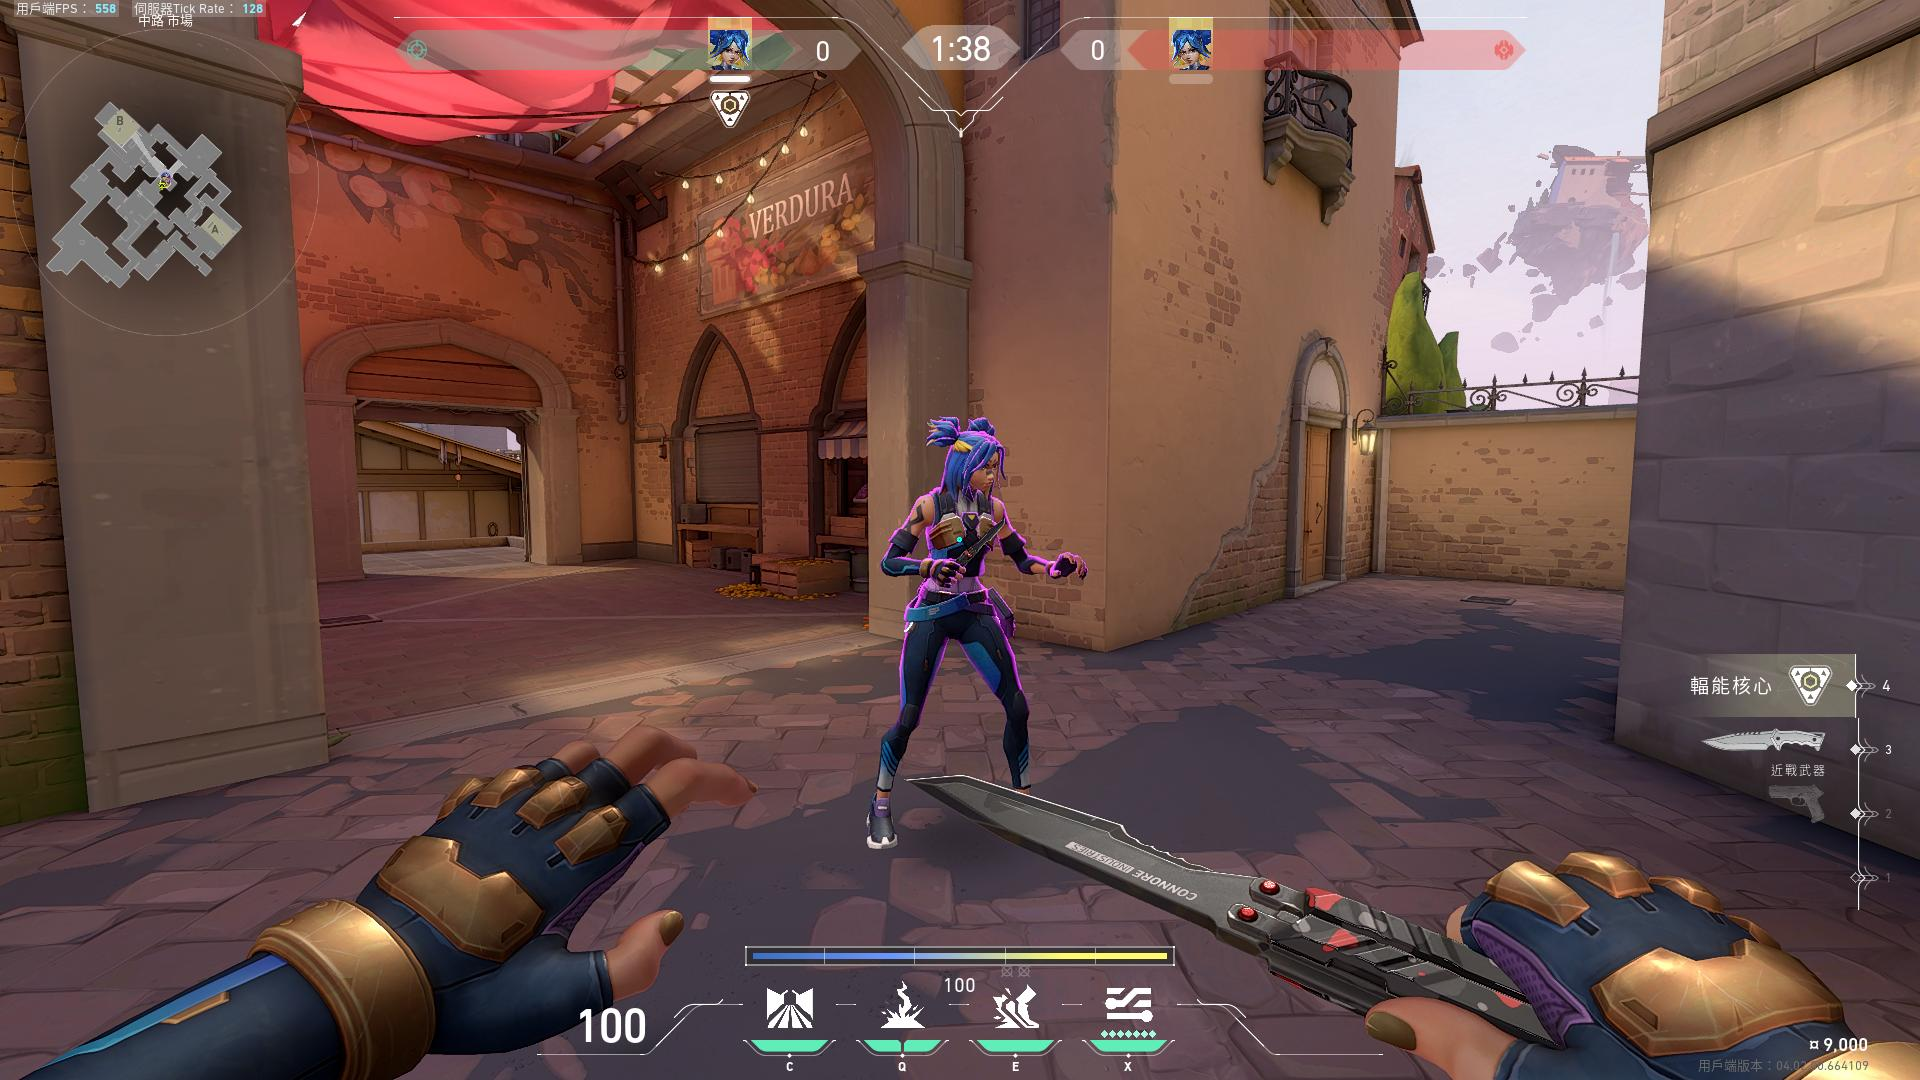enemyBody: (934, 533, 988, 585)
enemyHead: (940, 440, 1001, 489)
